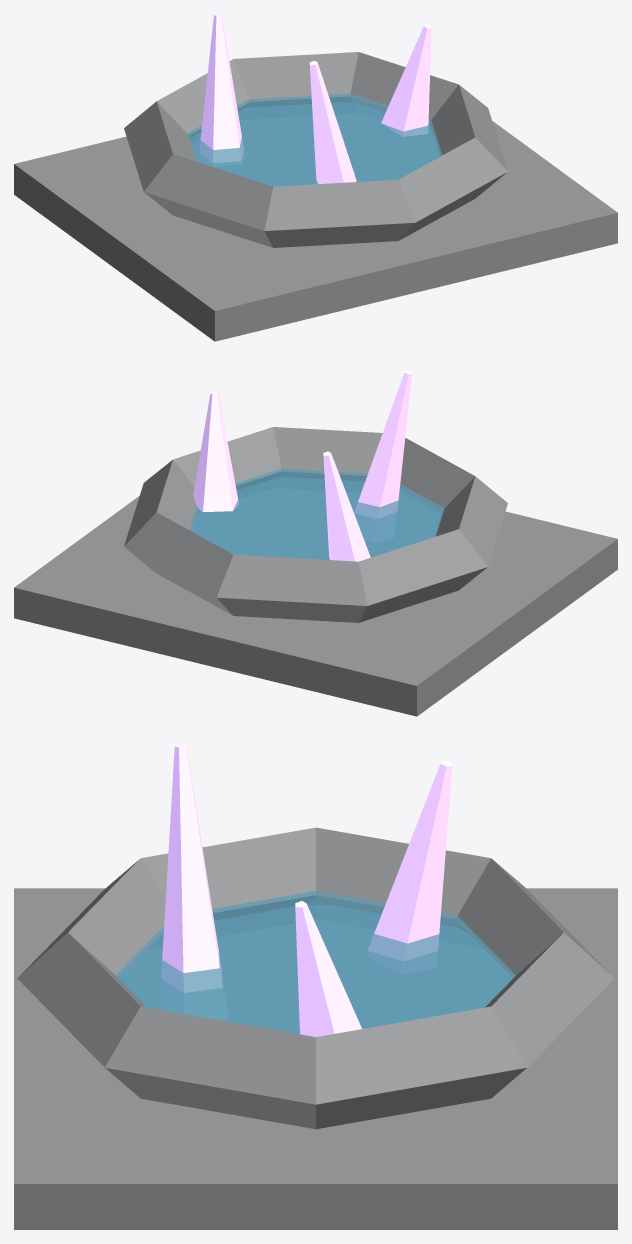
Rendered from harthmere_old_well_essence.lod1.glb.
The picture shows the model from 3 angles, top to bottom: view 1: azimuth 30°, elevation 25°; view 2: azimuth 150°, elevation 25°; view 3: azimuth 270°, elevation 25°; orthographic projection. The views are drawn at different scales.
Size of the model in its own units: 2.2 by 1.05 by 1.9.
